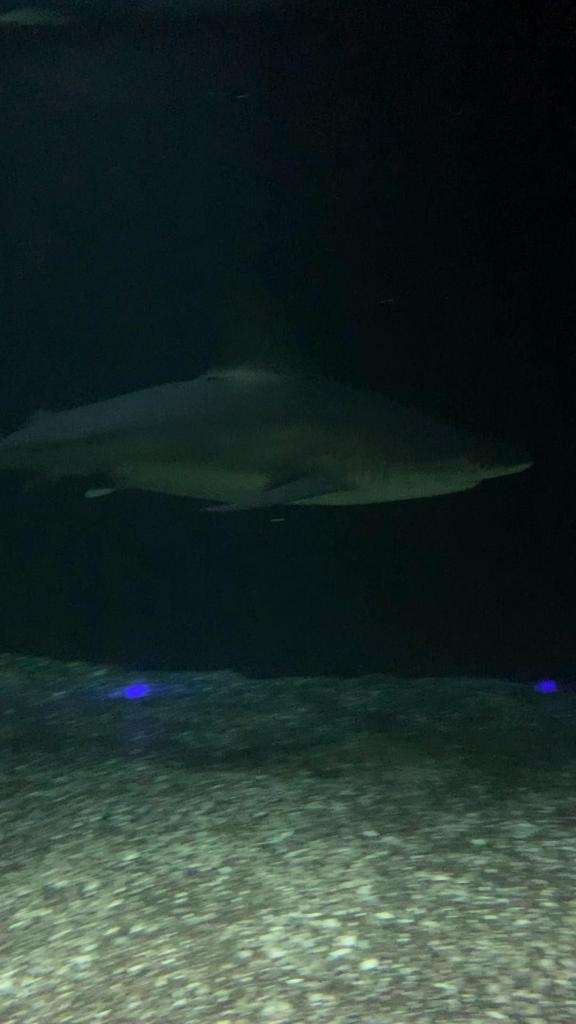shark: (1, 300, 536, 512)
